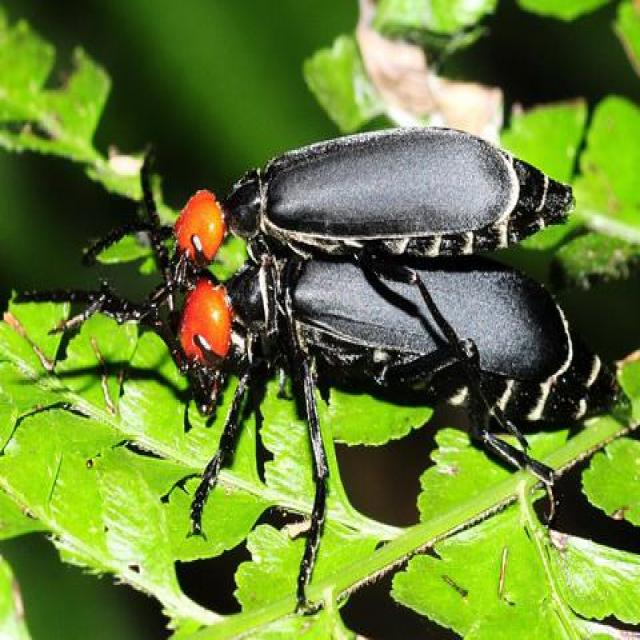BlisterBeetle-Adult-: (58, 248, 598, 566), (147, 111, 585, 272)
